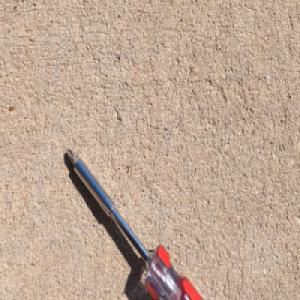Screwdriver: (65, 145, 206, 300)
